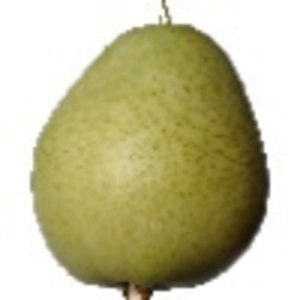pera: (29, 1, 270, 300)
